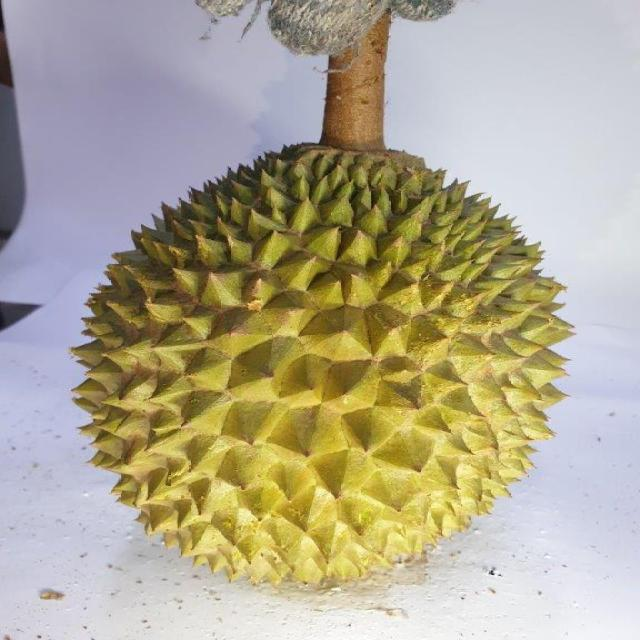immature: (66, 144, 576, 590)
